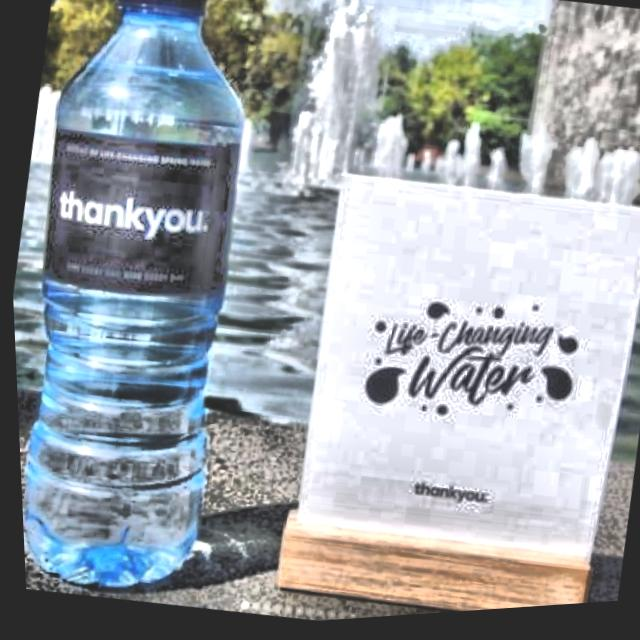Bottles: (0, 0, 316, 610)
